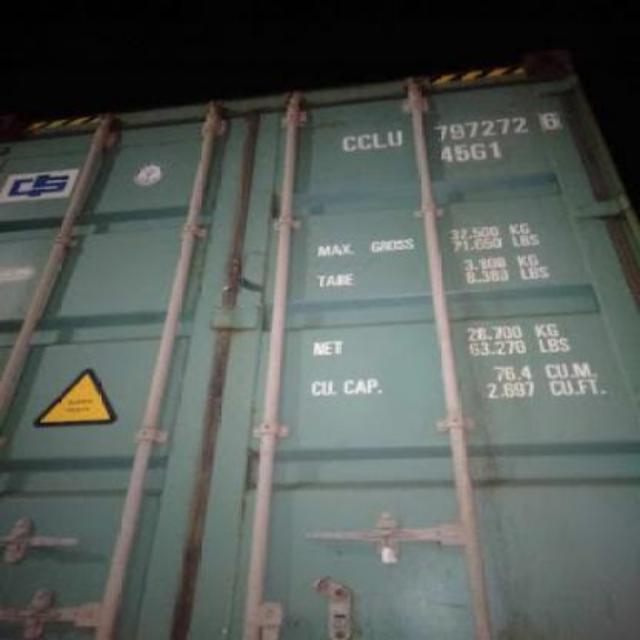2: (480, 119, 496, 135), (512, 116, 526, 134)
6: (544, 113, 556, 129)
7: (432, 124, 450, 142), (464, 120, 480, 140), (496, 120, 512, 132)
9: (448, 123, 464, 139)
C: (342, 135, 356, 153), (356, 133, 369, 151)
L: (370, 130, 388, 152)
U: (388, 129, 402, 147)
